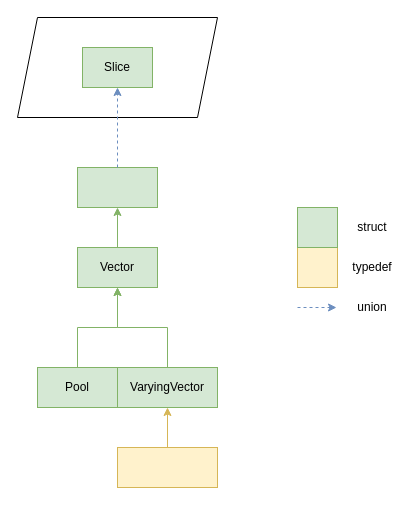
This 410x505 diagram has some shape labels left out. The shapes that lost their labels are listed below. From the top down, each one's box as (x1, y1, x2, y2) in pixels, then its label:
(76, 166, 158, 208): Span
(116, 446, 218, 488): VectorOfVector
